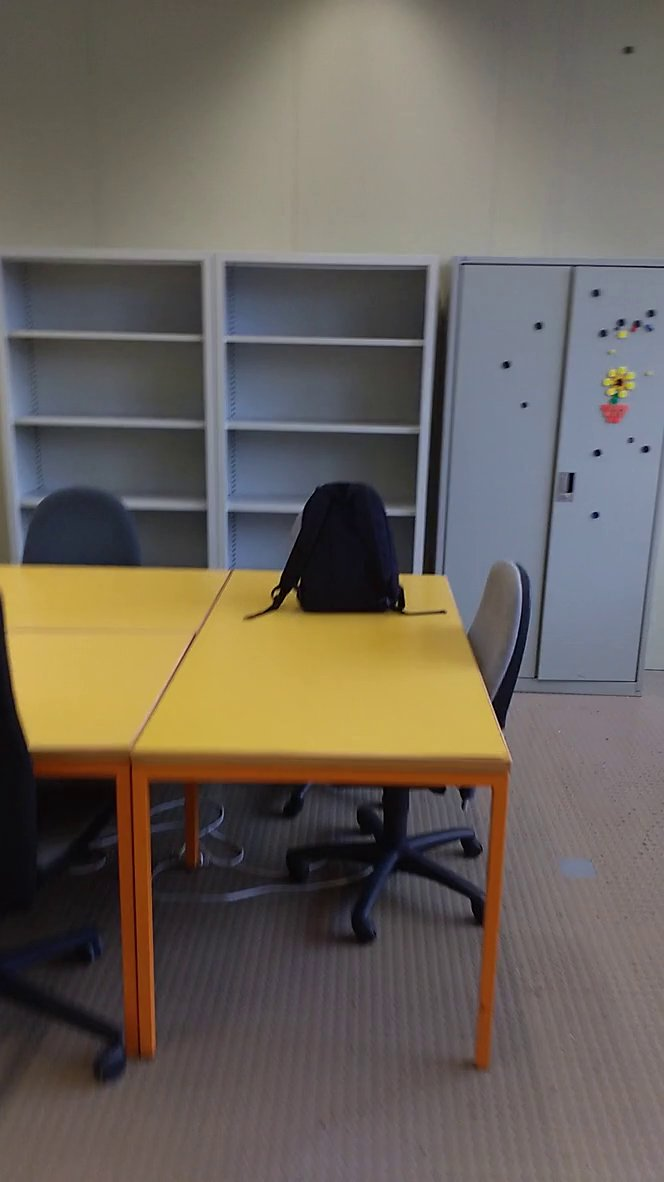bag: (241, 478, 452, 633)
chair: (454, 546, 538, 722), (12, 473, 155, 575)
